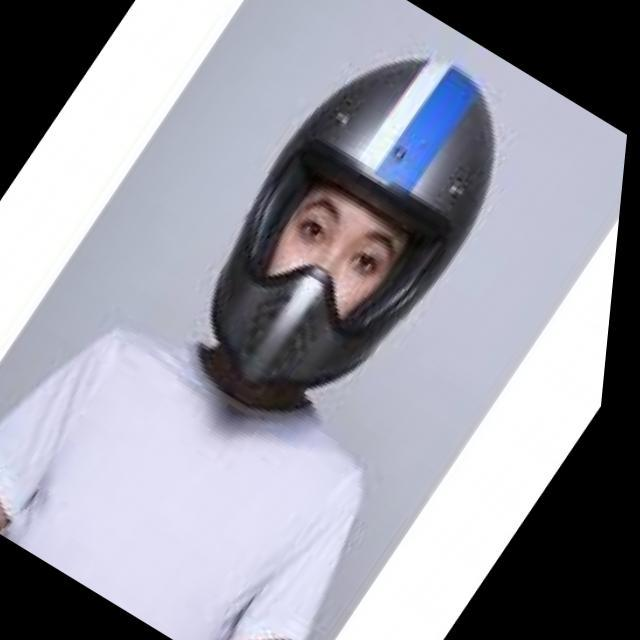Helmet: (191, 50, 501, 414)
